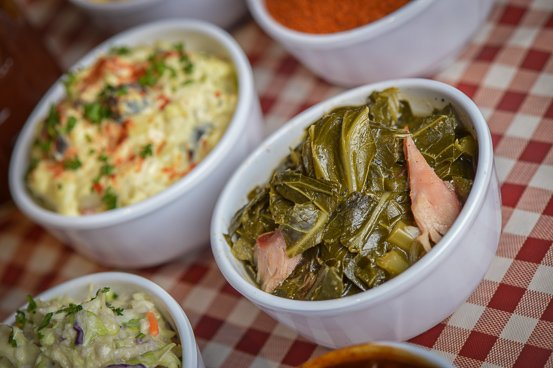sushi: (209, 78, 499, 349), (8, 18, 265, 270), (246, 2, 494, 89), (0, 271, 203, 366)
